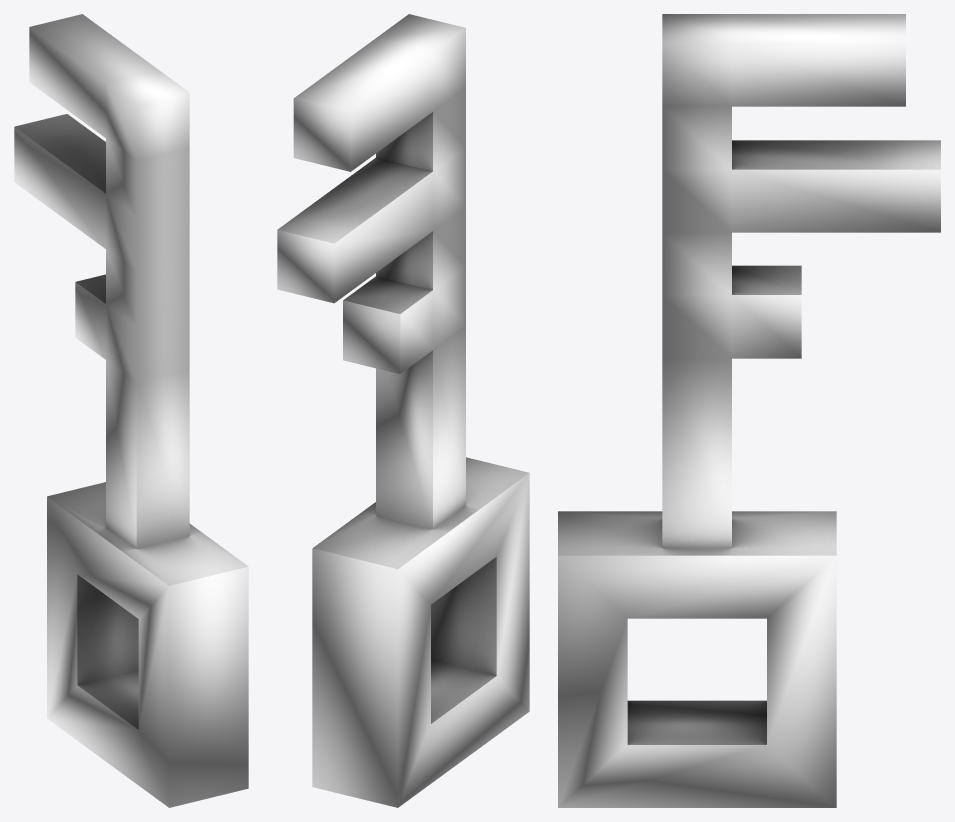
File: Key_Boxy.dae
The picture shows the model from 3 angles, left to right: view 1: azimuth 30°, elevation 25°; view 2: azimuth 150°, elevation 25°; view 3: azimuth 270°, elevation 25°; orthographic projection. The views are drawn at different scales.
Visible parts, largest first — view 1: Cube; view 2: Cube; view 3: Cube.
Part boxes in pixels (x1=…): Cube: x1=14, y1=14, x2=248, y2=807; Cube: x1=277, y1=14, x2=529, y2=807; Cube: x1=558, y1=14, x2=940, y2=807.
Bounding box in the file's own units: 0.3 × 1.1 × 2.4.
1 material, 1 textured.
